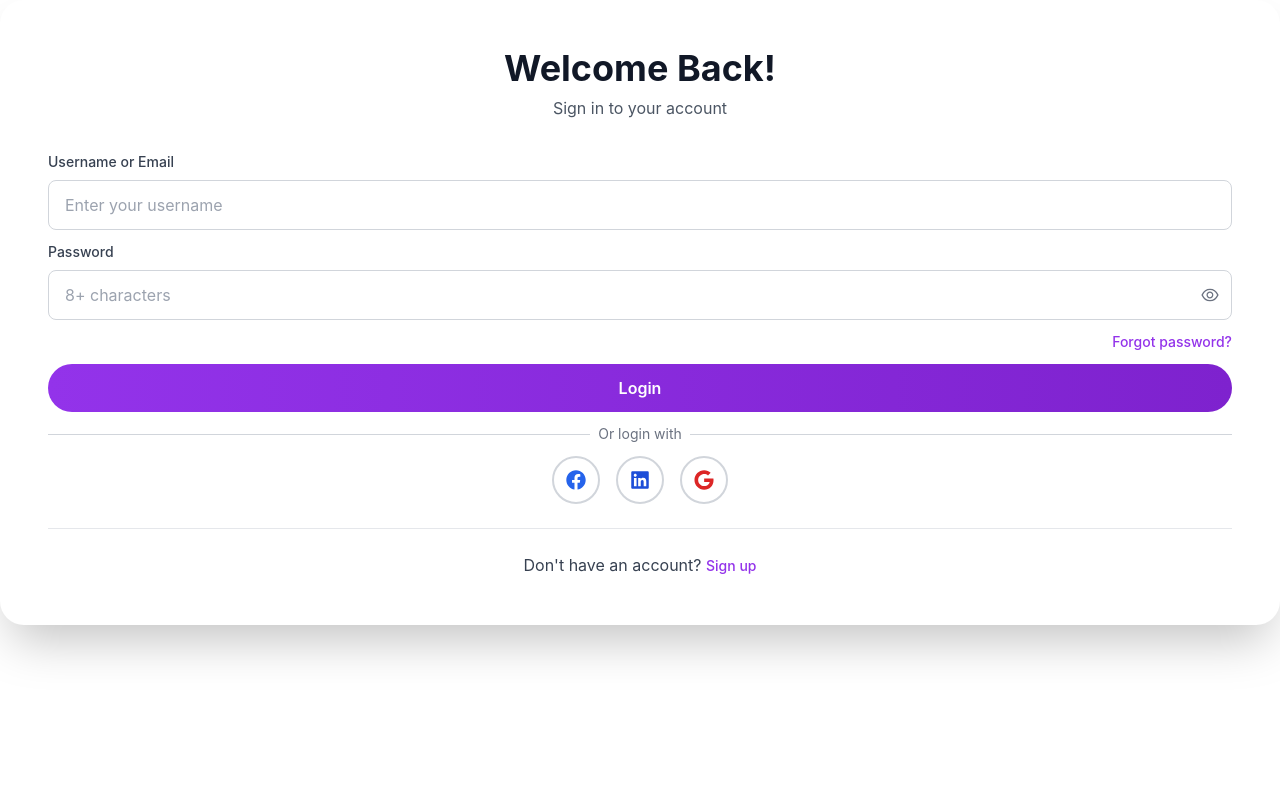
Test: Registration Process Tests › can toggle back to login form from registration
Click the button "Sign up": (731, 566) [706, 556, 756, 576]
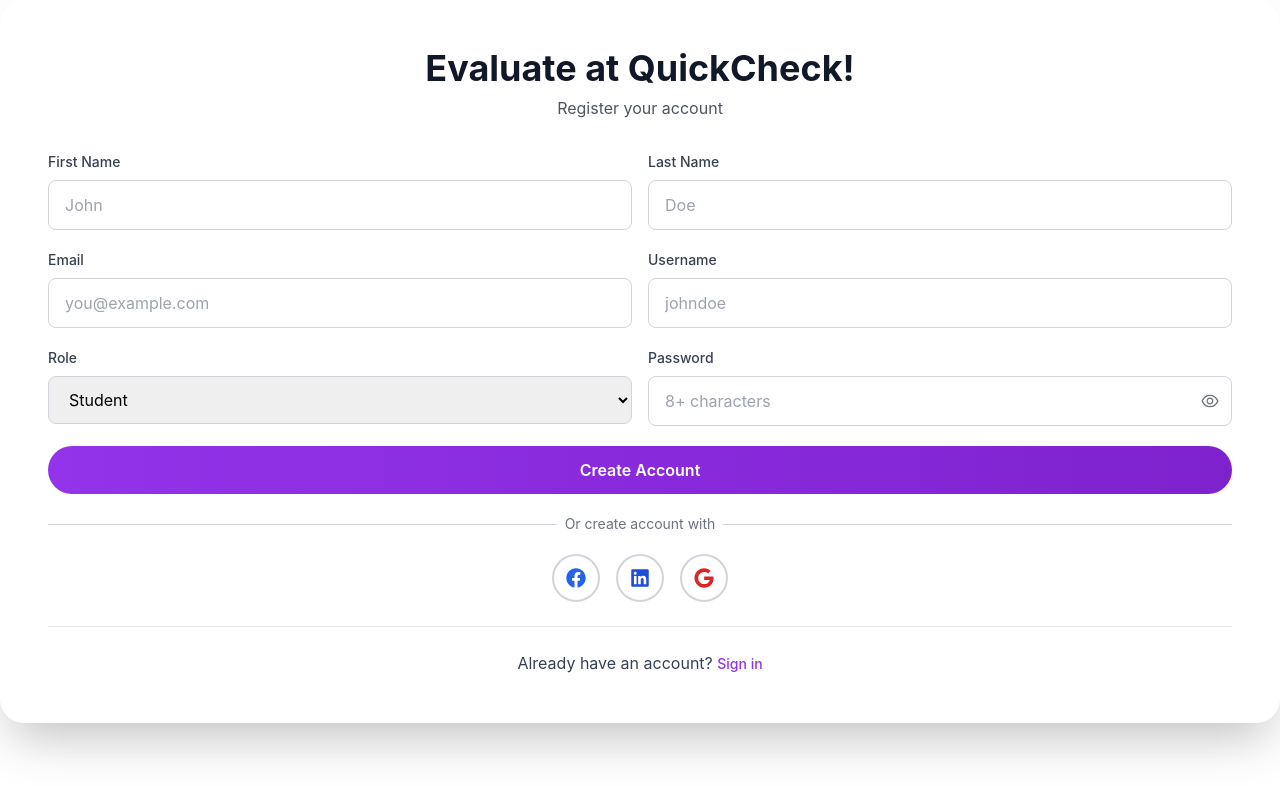
Check: the heading "Evaluate at QuickCheck!" is shown, box [425, 46, 855, 90]
Click the button "Sign in": (740, 664) [717, 654, 763, 674]
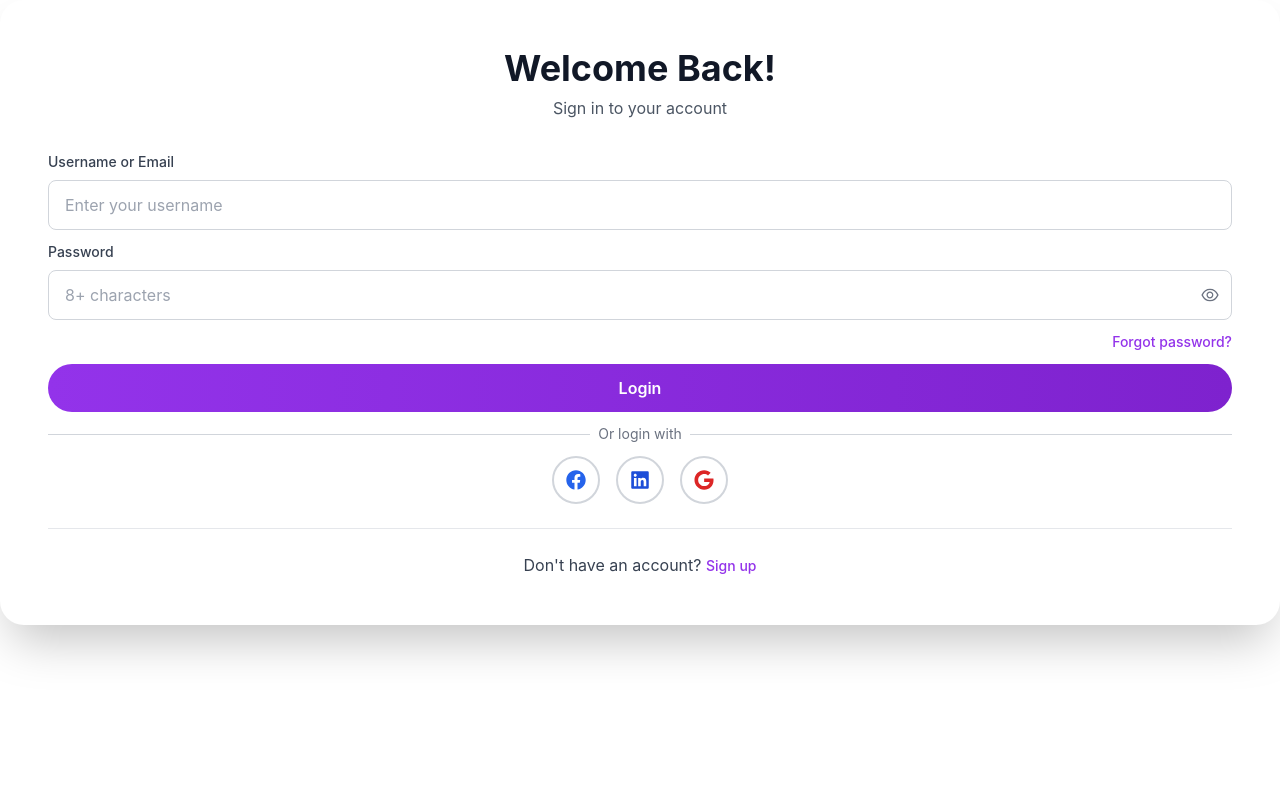
Check: the heading "Welcome Back!" is shown, box [504, 46, 776, 90]
